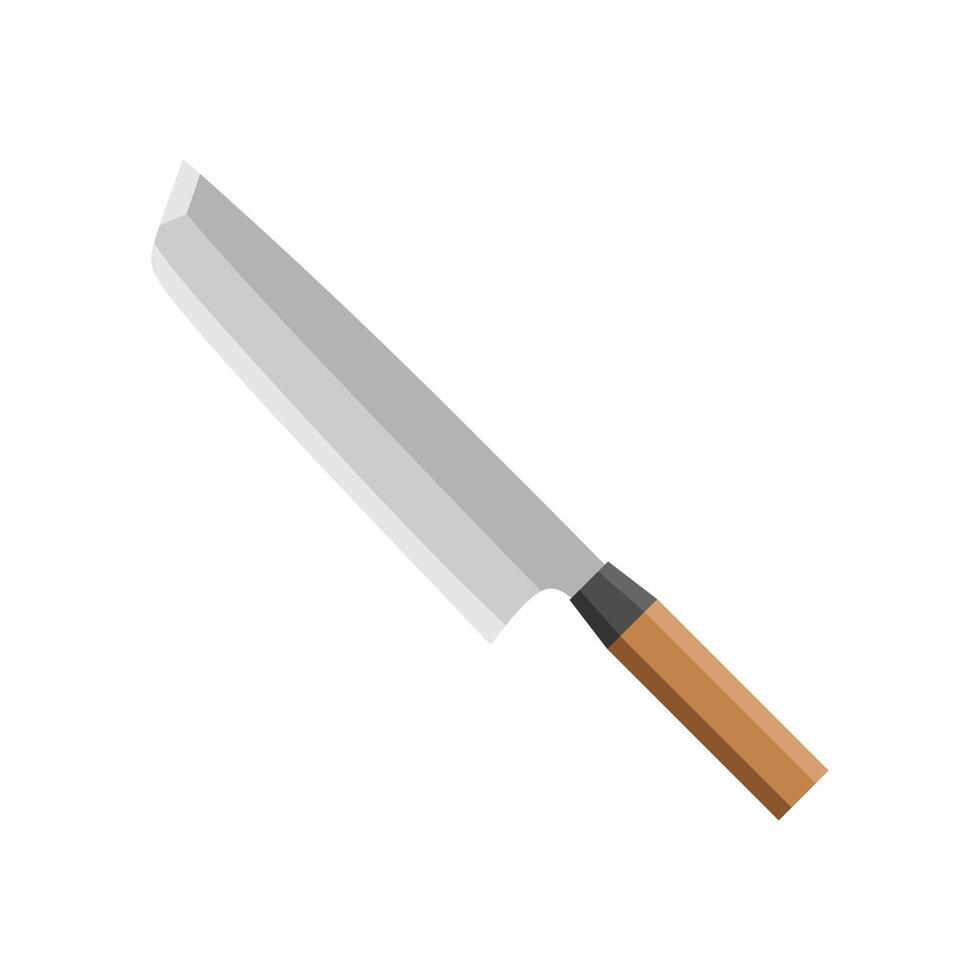Knife: (149, 158, 828, 820)
